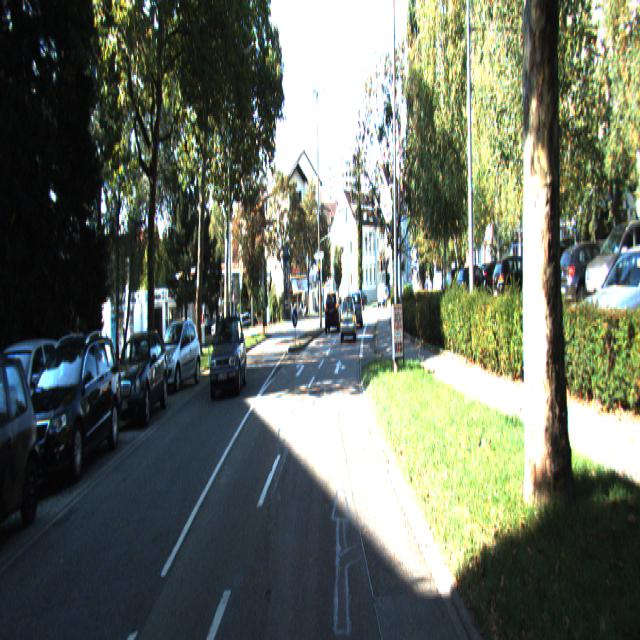Car: (9, 334, 124, 499), (0, 342, 43, 559), (108, 328, 169, 428), (152, 317, 201, 391), (209, 318, 247, 398), (340, 299, 356, 341)
